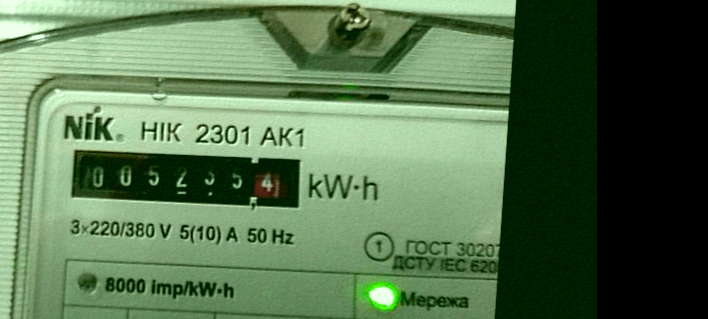0: (87, 163, 104, 189), (116, 163, 132, 188)
2: (171, 163, 188, 190)
3: (198, 162, 216, 188)
4: (255, 166, 275, 196)
5: (226, 163, 243, 192), (144, 162, 159, 188)
screen: (55, 133, 310, 222)
